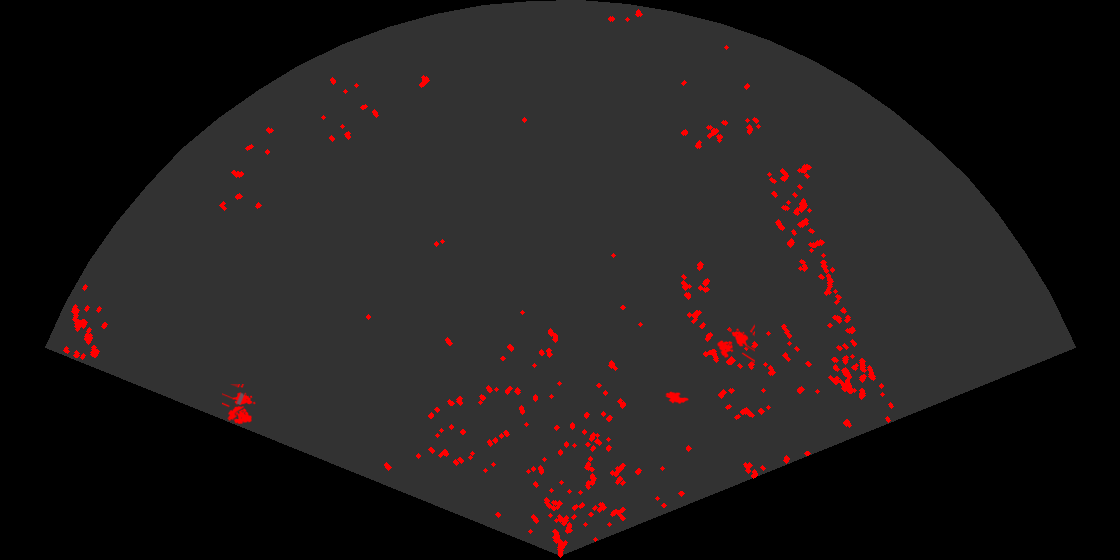AUV: (664, 390, 691, 405), (226, 403, 246, 423)
cage: (715, 323, 755, 364), (222, 384, 257, 426)
